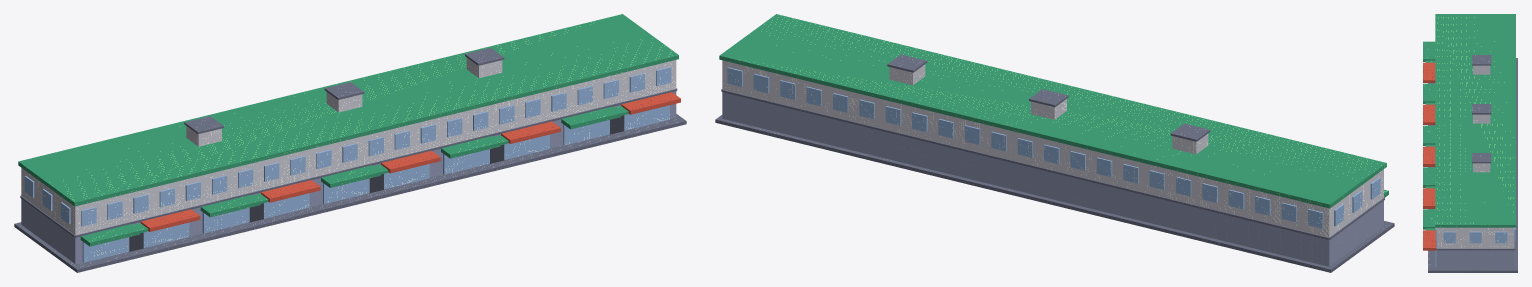
The model's file is com-5x1-l2.glb.
The picture shows the model from 3 angles, left to right: view 1: azimuth 30°, elevation 25°; view 2: azimuth 150°, elevation 25°; view 3: azimuth 270°, elevation 25°; orthographic projection. The views are drawn at different scales.
Visible parts, largest first — view 1: com-5x1-l2; view 2: com-5x1-l2; view 3: com-5x1-l2.
Part boxes in pixels (x1,y1,x2,y2): com-5x1-l2: (14, 14, 686, 272); com-5x1-l2: (715, 14, 1394, 272); com-5x1-l2: (1423, 14, 1517, 272).
Bounding box in the file's own units: 9.86 × 1.25 × 1.86.
1 material, 1 textured.
